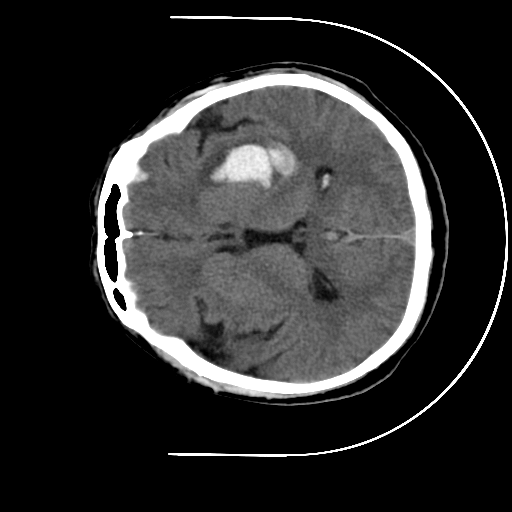a: (186, 128, 309, 206)
